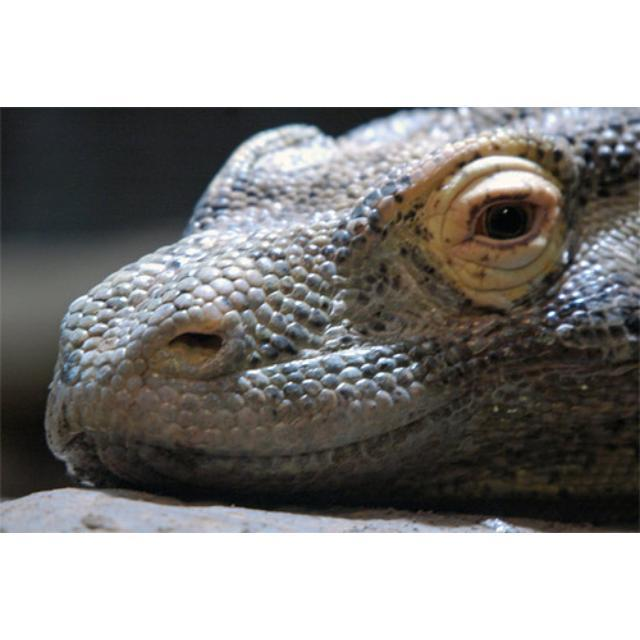KomodoDragon: (45, 108, 636, 527)
